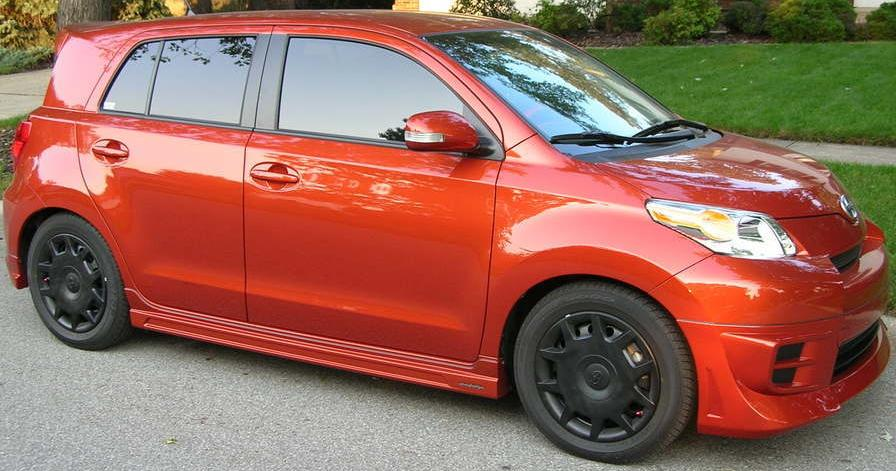front_view: (639, 176, 896, 419)
headlight: (644, 199, 805, 270)
side_glass: (114, 35, 471, 159)
